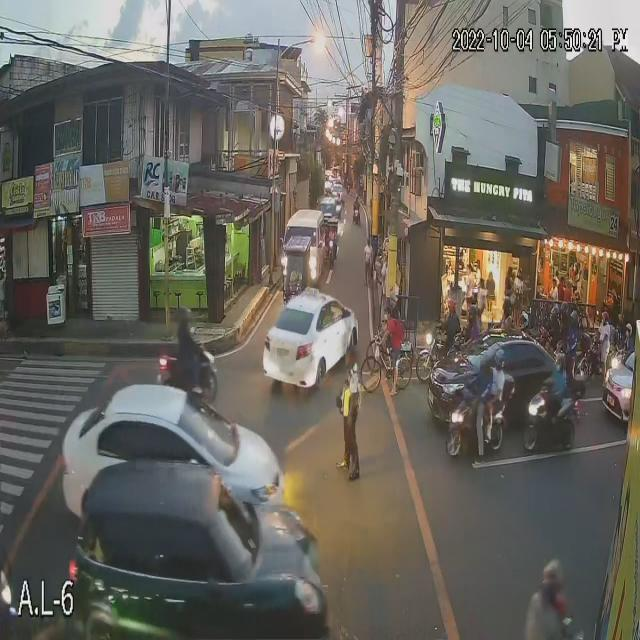helmet: (494, 347, 512, 377), (174, 305, 196, 329), (466, 353, 483, 382), (498, 295, 515, 318), (552, 353, 568, 373), (518, 306, 532, 327), (566, 310, 581, 328), (546, 307, 562, 323), (597, 310, 613, 326), (464, 305, 481, 320), (445, 298, 456, 319), (622, 322, 634, 339), (560, 300, 570, 315)
motorcycle: (442, 383, 517, 459), (523, 384, 590, 455), (155, 341, 220, 409), (416, 331, 460, 378), (574, 342, 617, 379), (606, 345, 630, 375), (352, 205, 361, 223)
rider: (168, 302, 202, 374), (463, 355, 492, 419), (484, 345, 512, 403), (547, 353, 571, 403), (592, 305, 614, 354), (460, 303, 484, 343), (439, 297, 460, 339), (511, 302, 536, 335), (497, 289, 516, 330), (566, 312, 584, 350), (618, 321, 636, 355), (546, 305, 560, 331), (557, 299, 569, 323), (354, 193, 360, 214)
